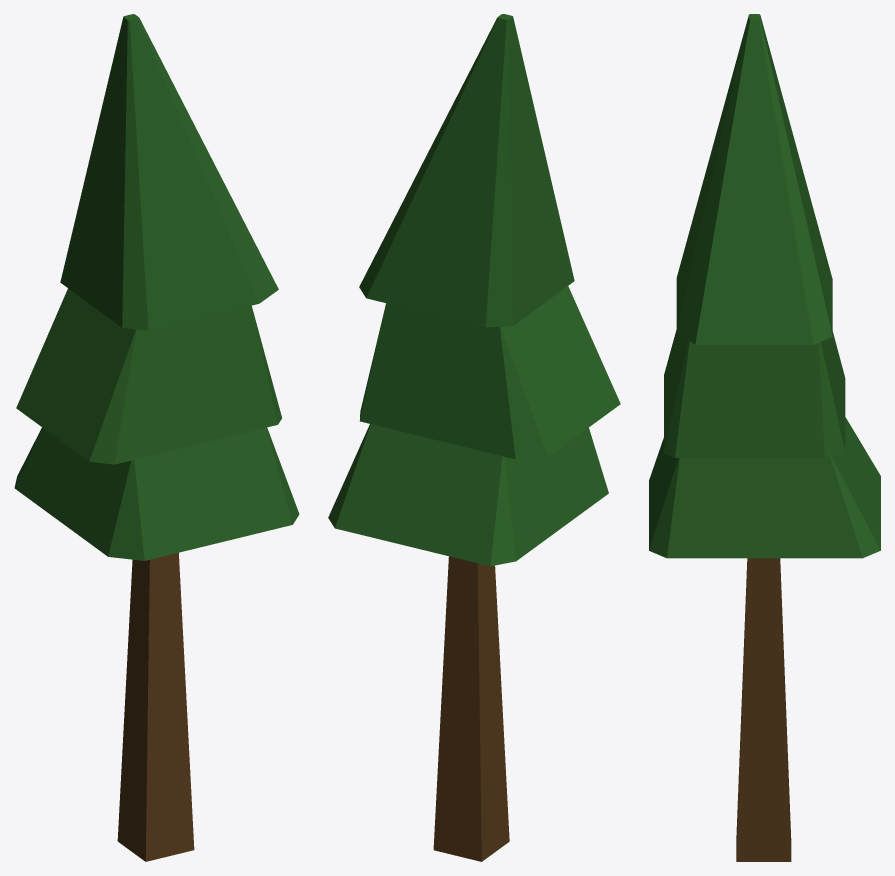
The model's file is ForestTree3.fbx.
The picture shows the model from 3 angles, left to right: view 1: azimuth 30°, elevation 25°; view 2: azimuth 150°, elevation 25°; view 3: azimuth 270°, elevation 25°; orthographic projection. The views are drawn at different scales.
Parts seen in each view (by area): view 1: Mesh1 Group1 Model; view 2: Mesh1 Group1 Model; view 3: Mesh1 Group1 Model.
Part boxes in pixels (x1,y1,x2,y2): Mesh1 Group1 Model: (14,14,299,861); Mesh1 Group1 Model: (328,14,620,861); Mesh1 Group1 Model: (649,14,880,861).
Bounding box in the file's own units: 155 × 612 × 157.
